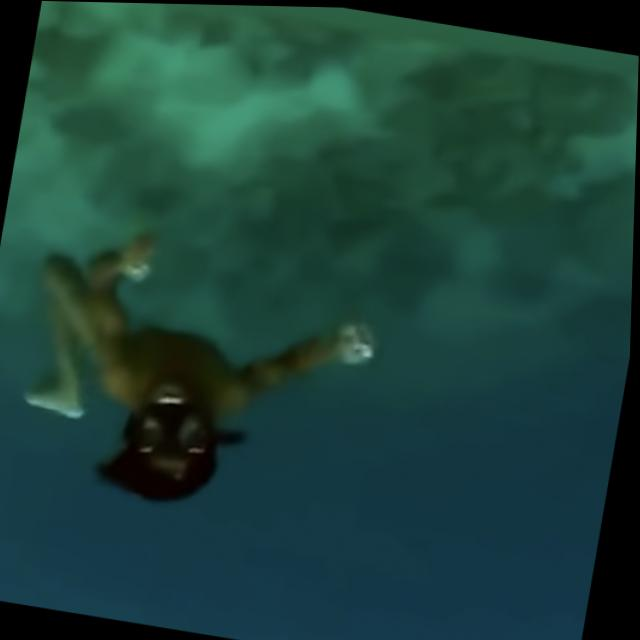human: (0, 185, 409, 554)
